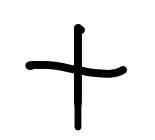plus: (25, 25, 127, 130)
